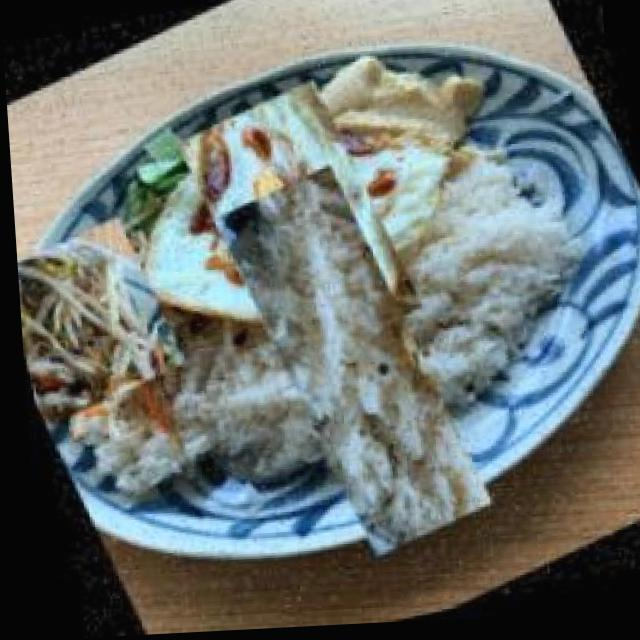fried_eggs: (152, 86, 445, 372)
mung_bean_sprouts: (11, 210, 190, 425)
rice: (169, 185, 530, 544)
